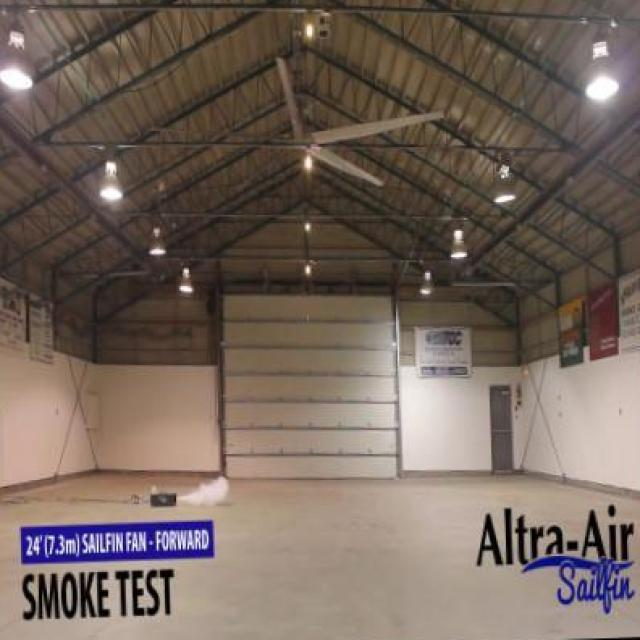fire: (182, 471, 237, 512)
